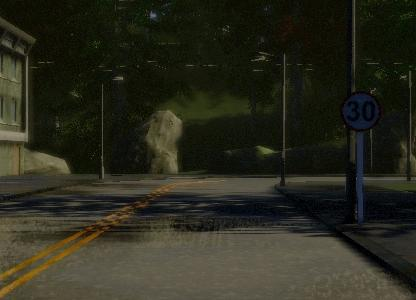Speed_30: (339, 86, 384, 136)
